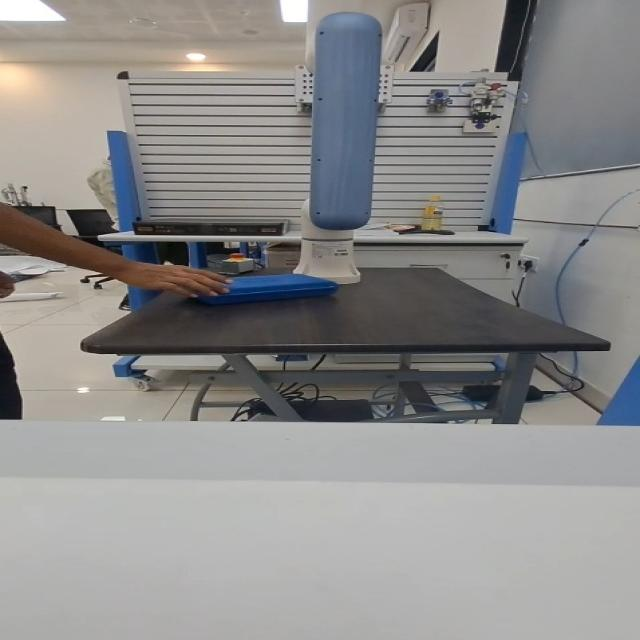top-surface: (211, 274, 309, 284)
